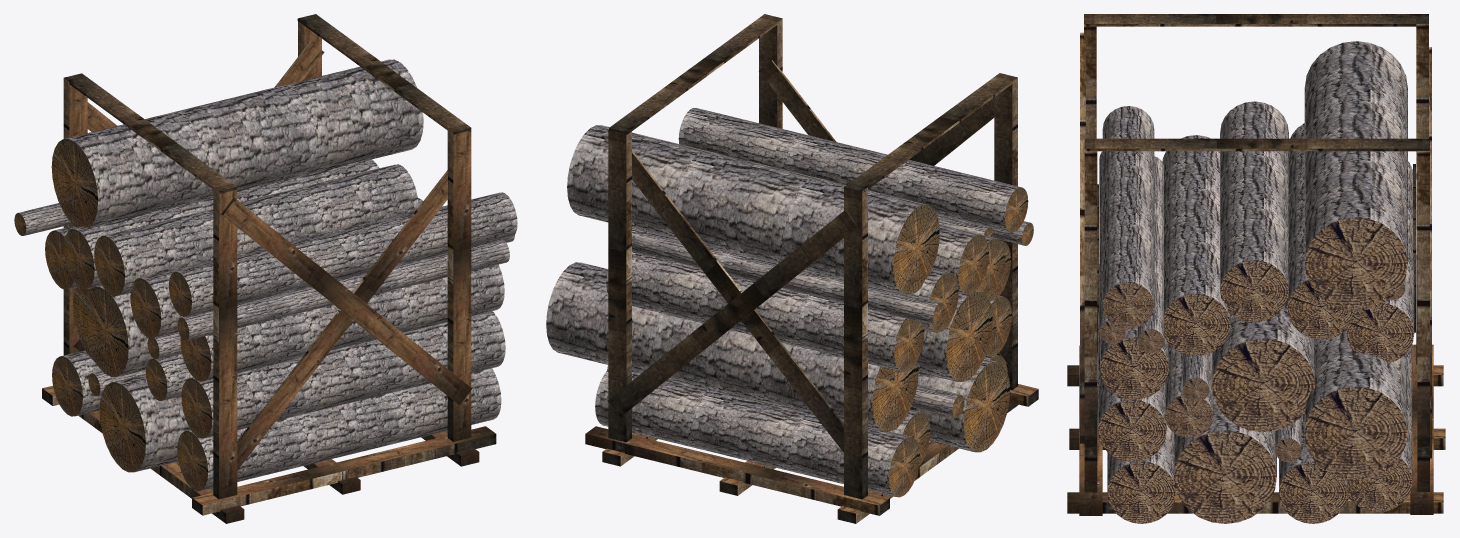
The model's file is pallet+wood (2)(6).dae.
3 views of the same model, side by side, from view 1: azimuth 30°, elevation 25°; view 2: azimuth 150°, elevation 25°; view 3: azimuth 270°, elevation 25° (orthographic). The views are drawn at different scales.
Parts seen in each view (by area): view 1: Component_1 (×28), Component_2 (×11); view 2: Component_1 (×22), Component_2 (×12); view 3: Component_1 (×37), Component_2 (×13).
Boxes of the visible parts, x1,y1,x2,y2 form: Component_1 (×28): (18, 59, 517, 491); Component_2 (×11): (63, 14, 496, 523); Component_1 (×22): (546, 108, 1028, 497); Component_2 (×12): (585, 14, 1018, 523); Component_1 (×37): (1098, 41, 1414, 523); Component_2 (×13): (1067, 14, 1445, 515).
Bounding box in the file's own units: 108 × 83.1 × 88.46.
Materials: 4 (4 with a texture image).
